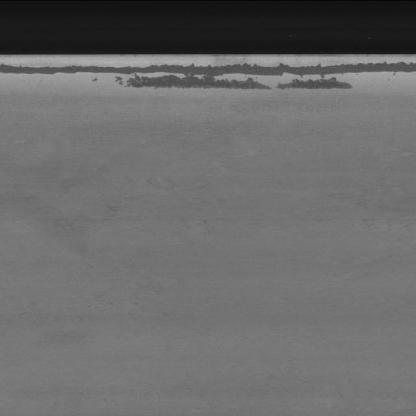oil_spot: (0, 59, 414, 100)
